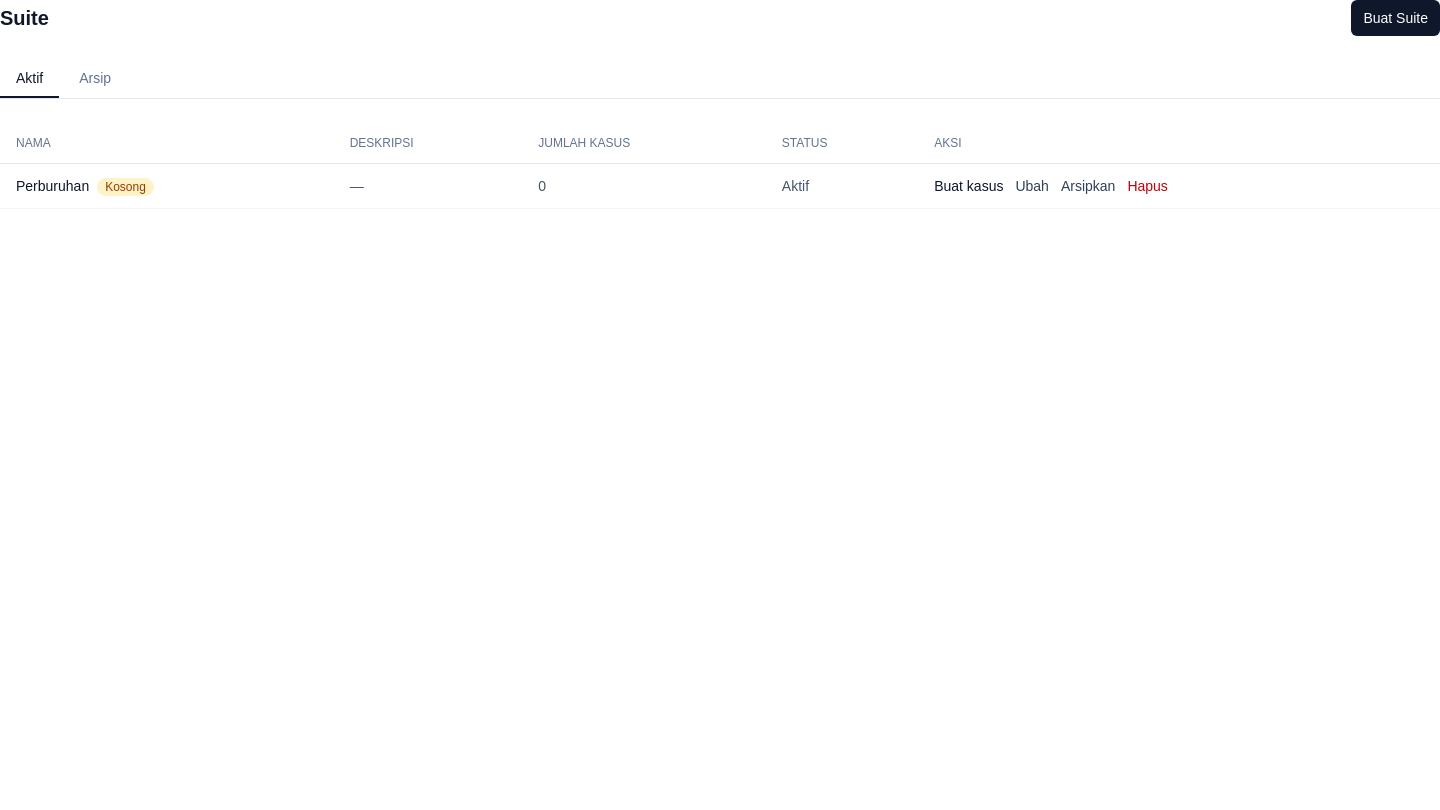
Scenario: SuitesPage › closes the delete dialog from Batal without reloading
Click the button with aria-label "Hapus Perburuhan" at (1148,186), box [1127, 176, 1168, 196]
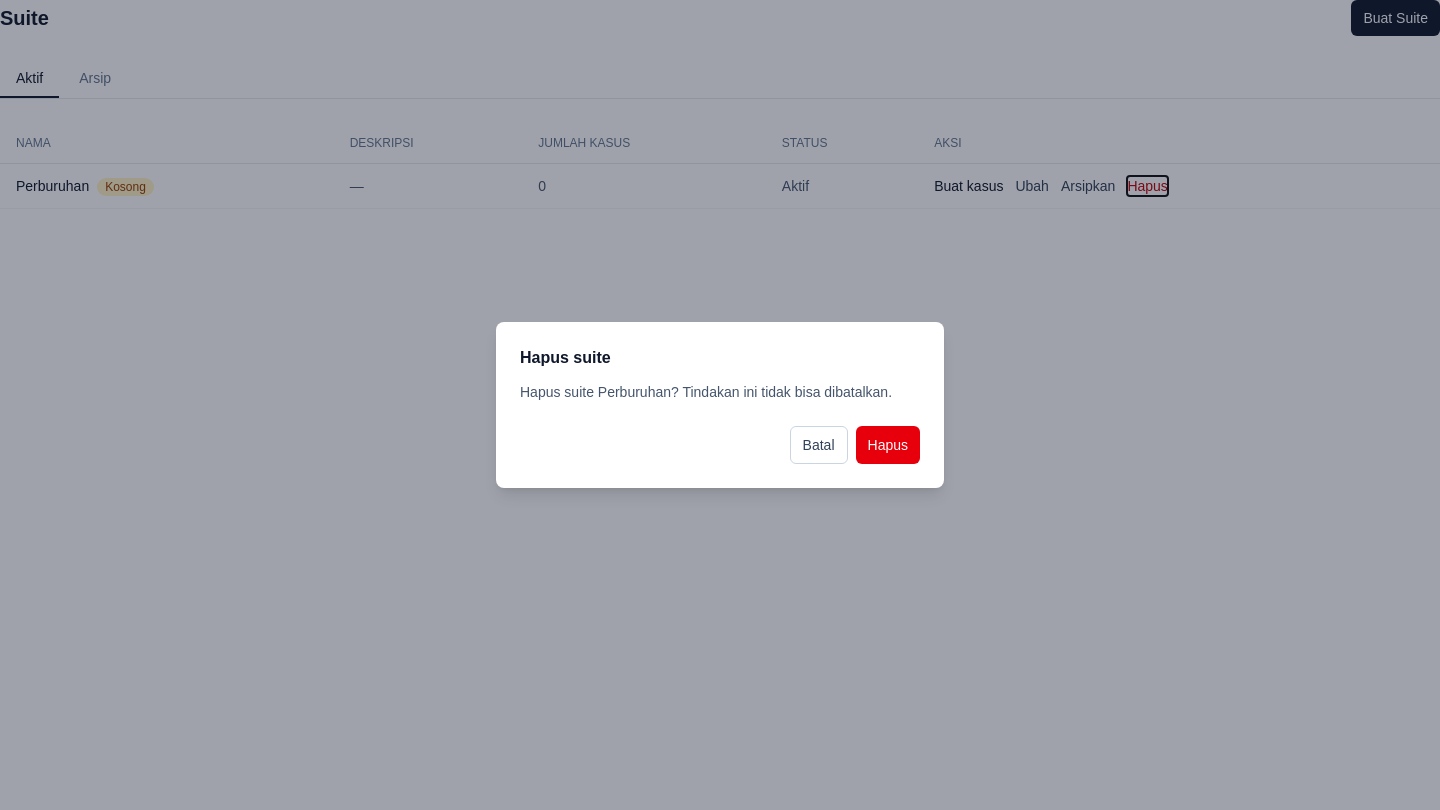
Click the button "Batal" at (819,445), box [790, 426, 848, 464]
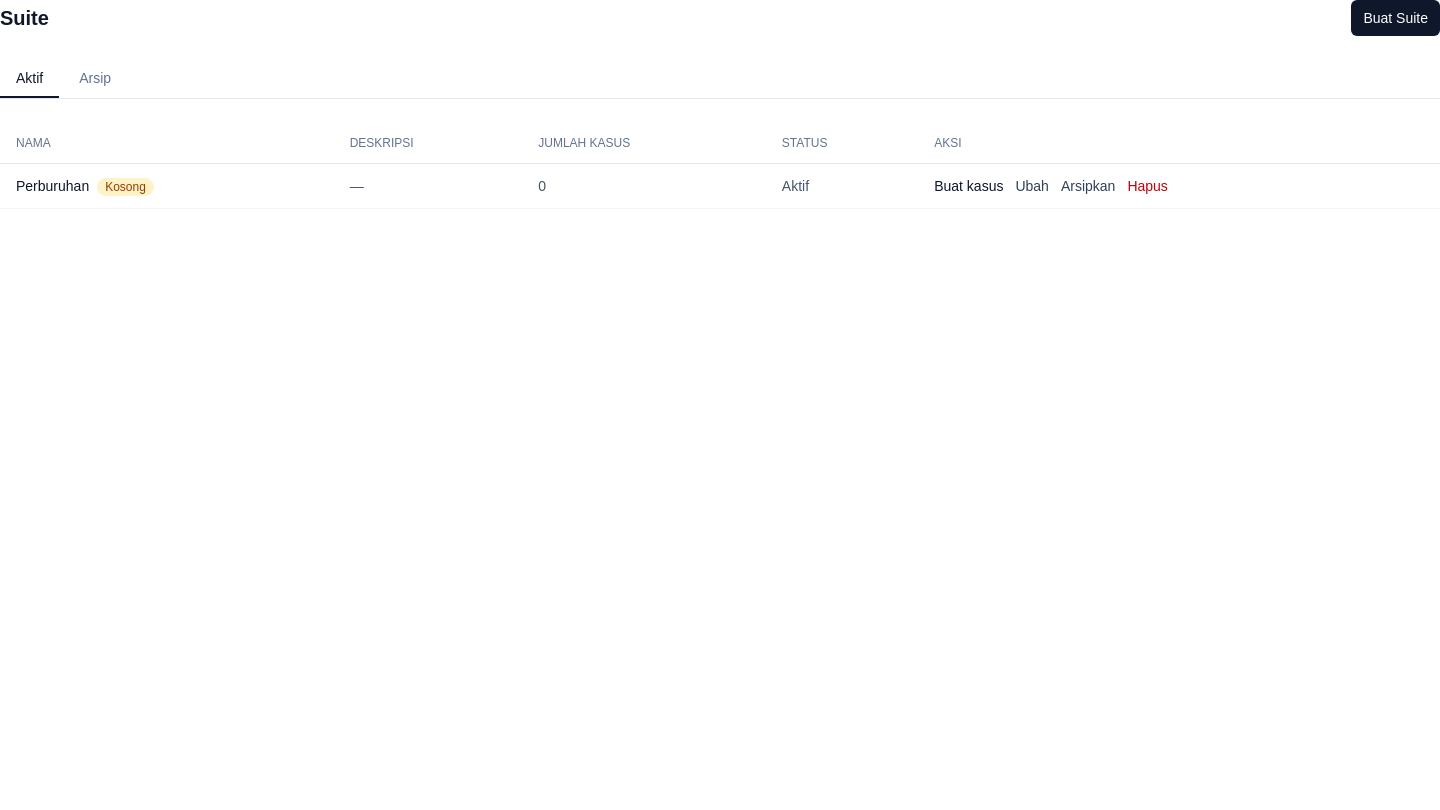
Expected: the dialog is gone
